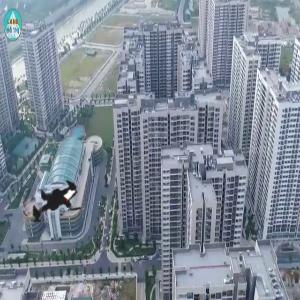drone: (15, 164, 102, 251)
